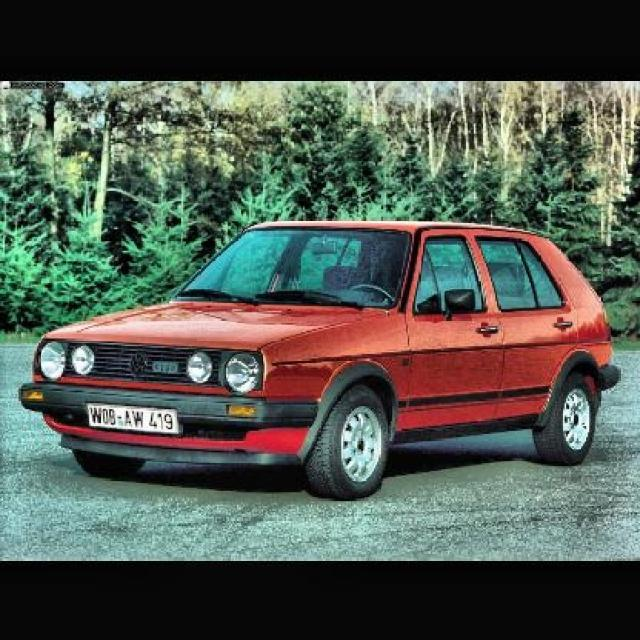maroon: (27, 220, 618, 470)
